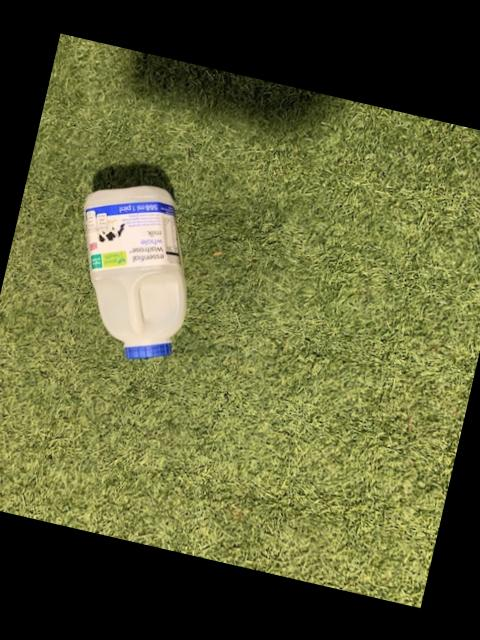plastic: (86, 184, 187, 356)
